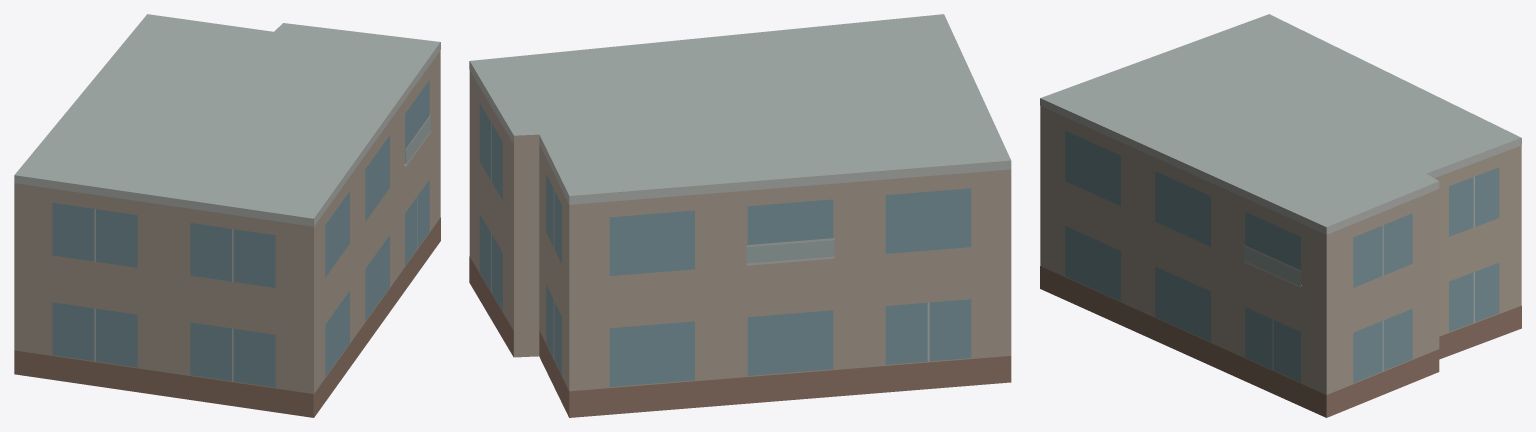
Rendered from survey-upis-32907574.glb.
3 renders of one model, left to right at view 1: azimuth 30°, elevation 25°; view 2: azimuth 150°, elevation 25°; view 3: azimuth 270°, elevation 25°, orthographic. The views are drawn at different scales.
Visible parts, largest first — view 1: survey-upis-32907574.tmp; view 2: survey-upis-32907574.tmp; view 3: survey-upis-32907574.tmp.
Part boxes in pixels (x1,y1,x2,y2): survey-upis-32907574.tmp: [14, 14, 440, 417]; survey-upis-32907574.tmp: [469, 14, 1011, 417]; survey-upis-32907574.tmp: [1040, 14, 1521, 417].
Bounding box in the file's own units: 14.64 × 6.1 × 13.97.
